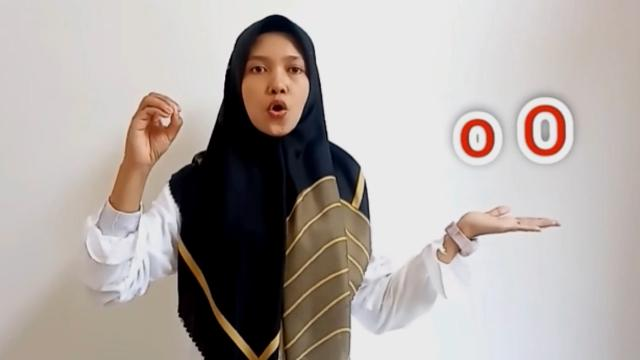O: (113, 84, 187, 172)
